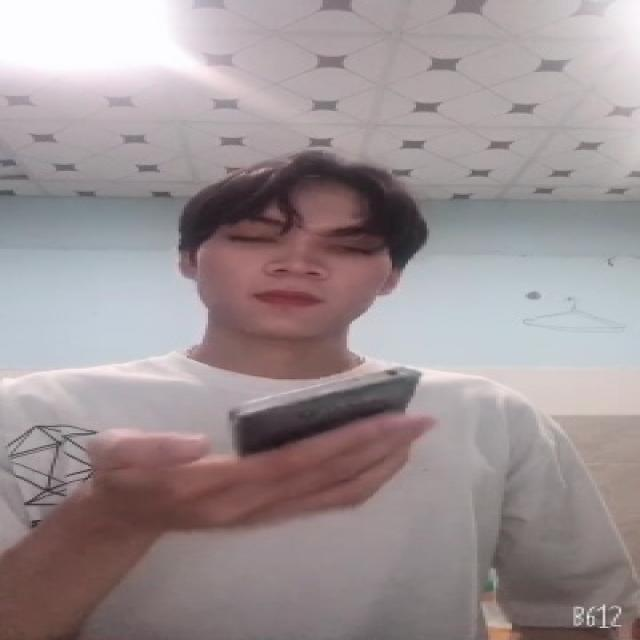Phone: (224, 361, 426, 455)
